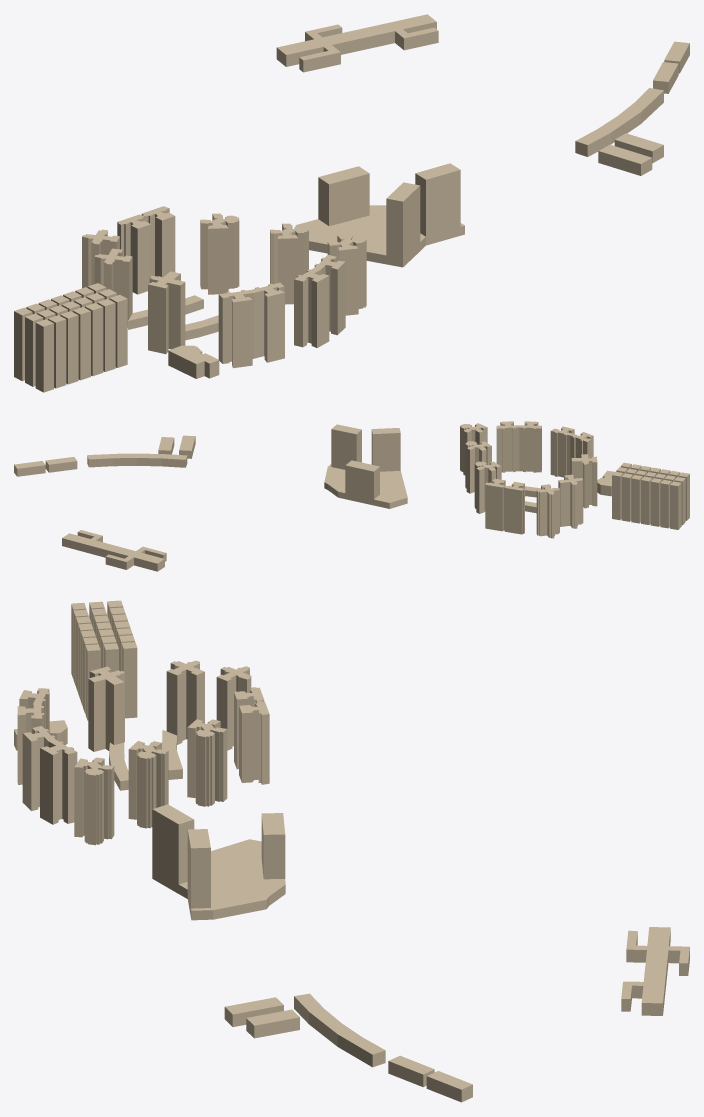
File: -9_16-estimated-coarse.glb
The picture shows the model from 3 angles, top to bottom: view 1: azimuth 30°, elevation 25°; view 2: azimuth 150°, elevation 25°; view 3: azimuth 270°, elevation 25°; orthographic projection. The views are drawn at different scales.
Size of the model in its own units: 878 by 66 by 580.
